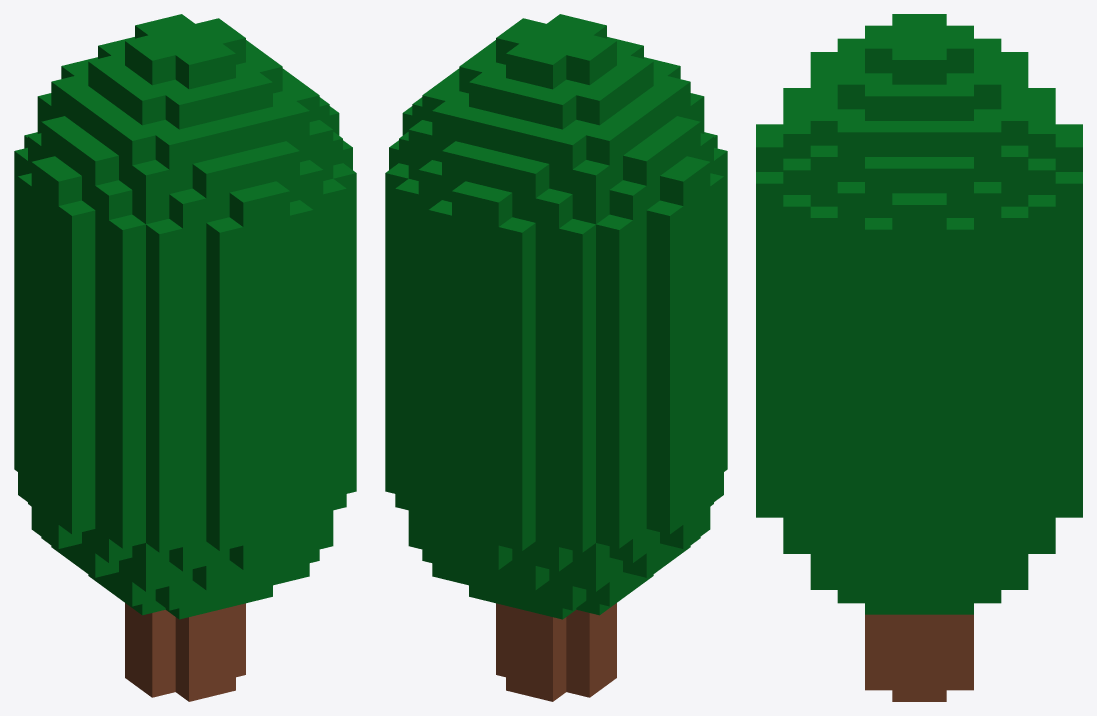
The model's file is tree-8.gltf.
The picture shows the model from 3 angles, left to right: view 1: azimuth 30°, elevation 25°; view 2: azimuth 150°, elevation 25°; view 3: azimuth 270°, elevation 25°; orthographic projection.
Visible parts, largest first — view 1: tree-8_model; view 2: tree-8_model; view 3: tree-8_model.
Boxes of the visible parts, bbox=[...] form: tree-8_model: bbox=[14, 14, 356, 701]; tree-8_model: bbox=[385, 14, 727, 701]; tree-8_model: bbox=[756, 14, 1082, 701].
Bounding box in the file's own units: 1.2 × 2.6 × 1.2.
Materials: 1 (1 with a texture image).
